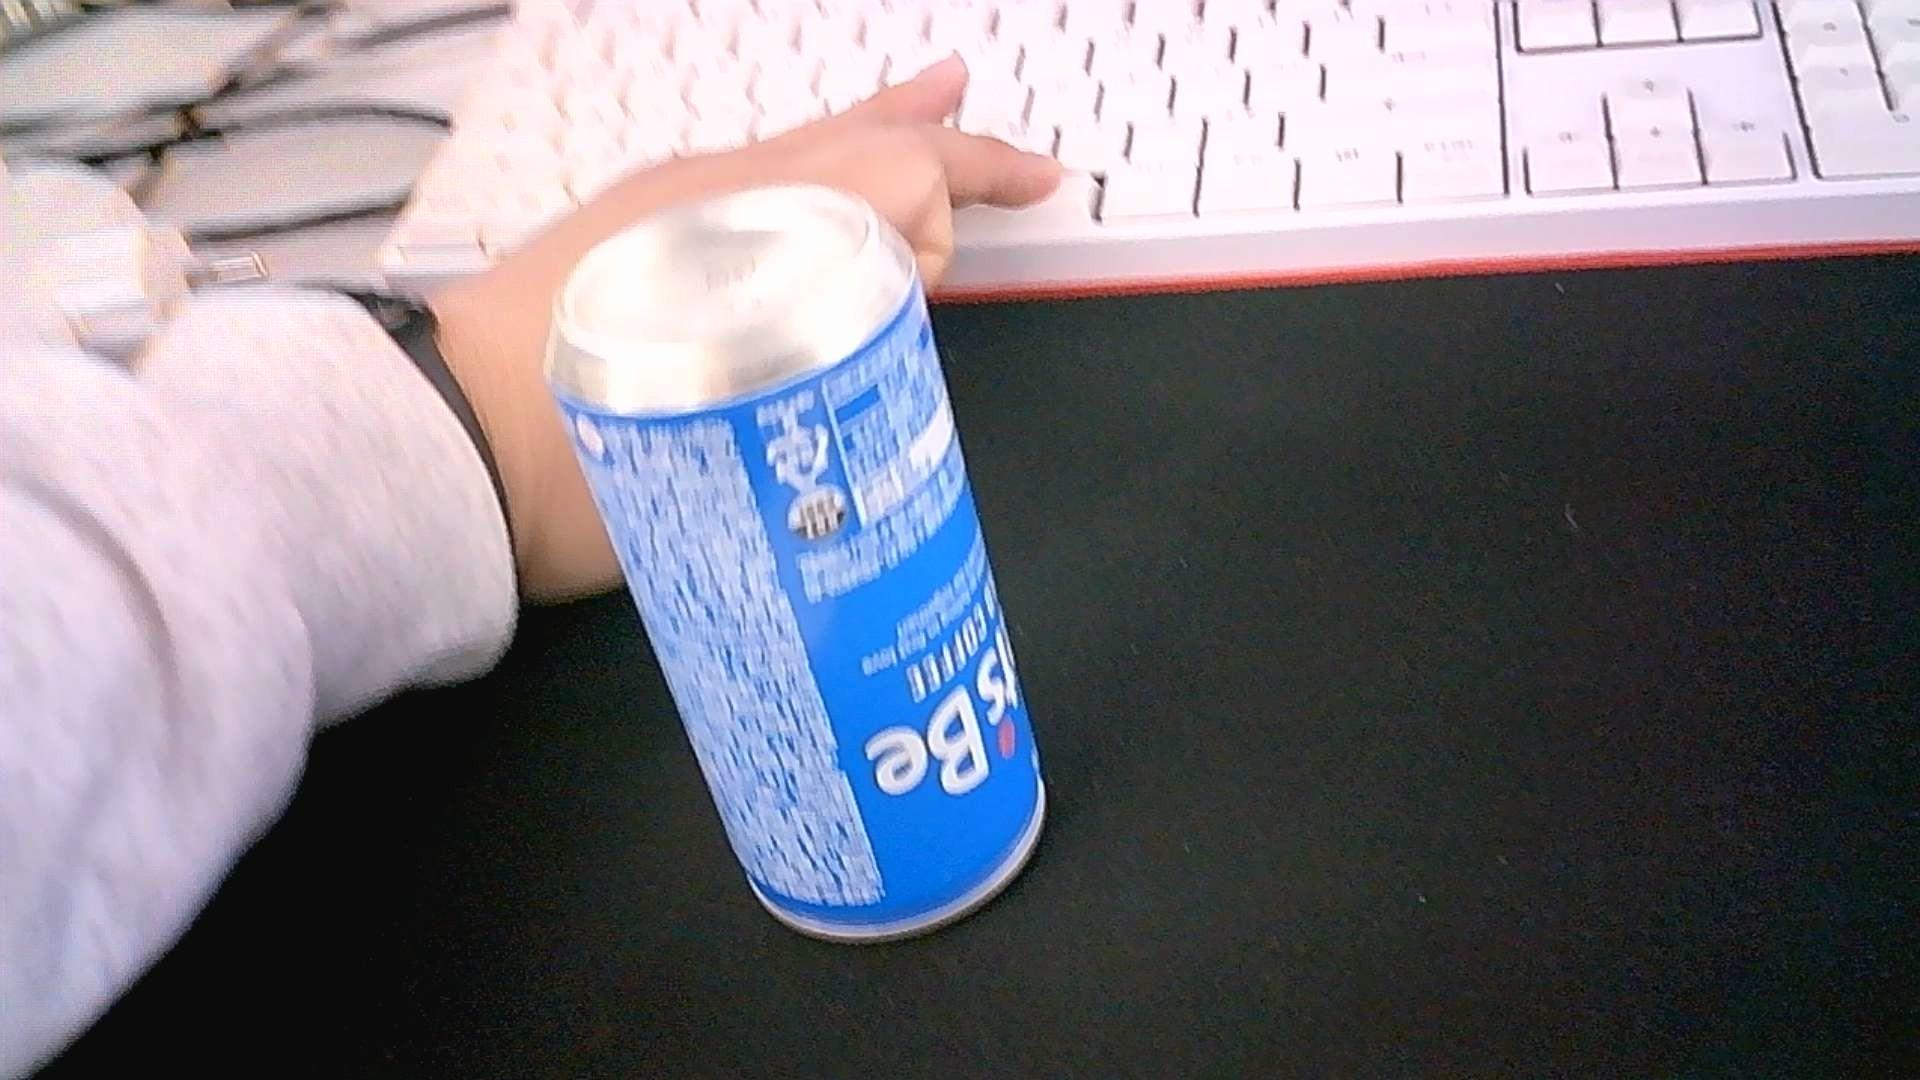letsbe: (543, 181, 1044, 942)
